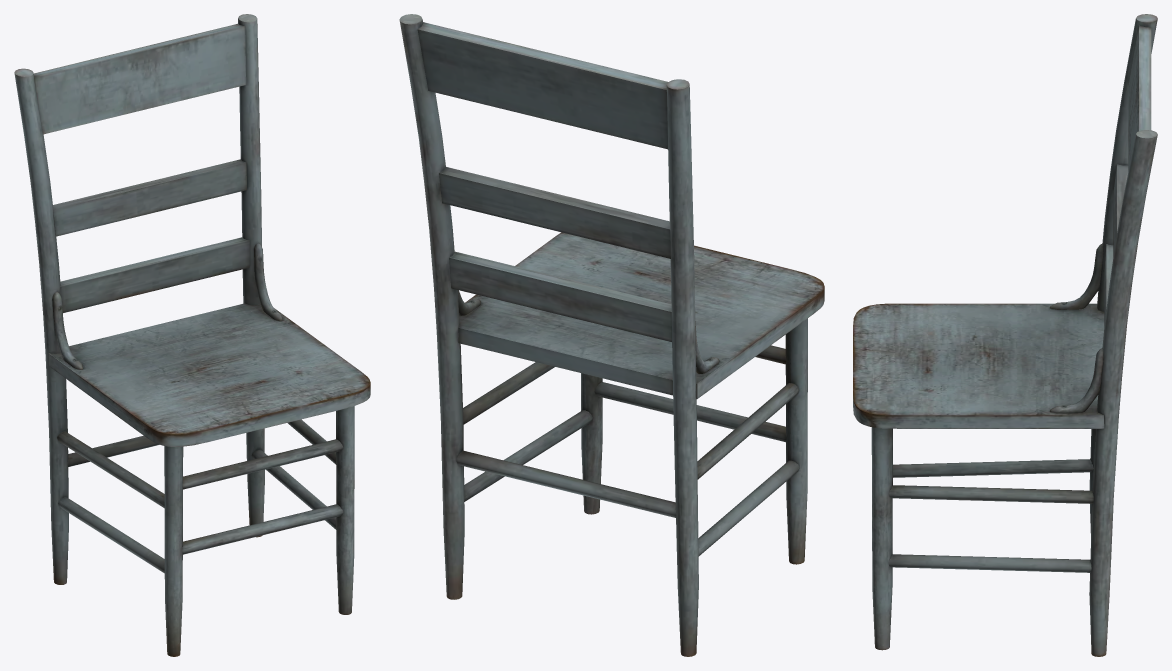
The model's file is painted_wooden_chair_02_1k.gltf.
3 renders of one model, left to right at view 1: azimuth 30°, elevation 25°; view 2: azimuth 150°, elevation 25°; view 3: azimuth 270°, elevation 25°, orthographic. The views are drawn at different scales.
Parts seen in each view (by area): view 1: painted_wooden_chair_02; view 2: painted_wooden_chair_02; view 3: painted_wooden_chair_02.
Part boxes in pixels (x1,y1,x2,y2): painted_wooden_chair_02: (14,14,370,656); painted_wooden_chair_02: (399,14,824,656); painted_wooden_chair_02: (853,14,1157,656).
Bounding box in the file's own units: 0.6394 × 1.26 × 0.6621.
Materials: 1 (1 with a texture image).
